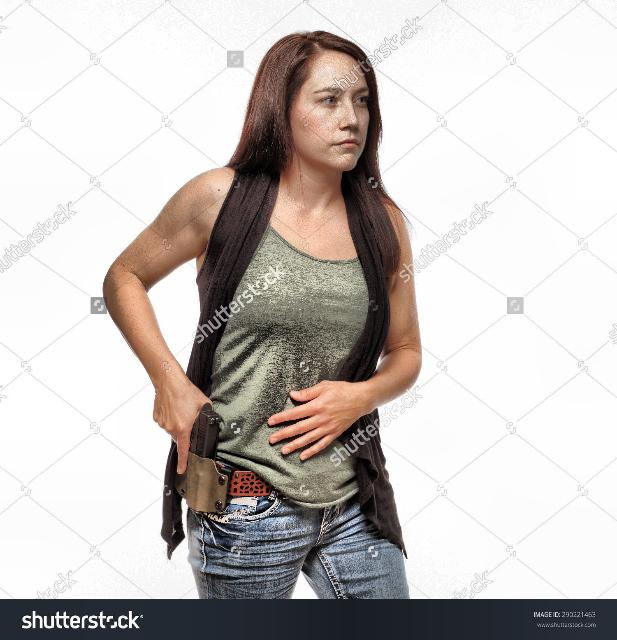pistol: (166, 400, 224, 512)
